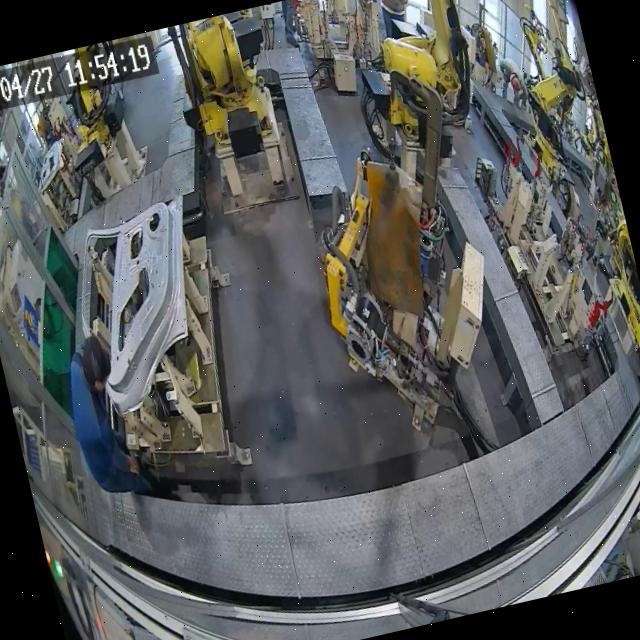Person: (54, 329, 154, 509), (495, 53, 530, 111), (372, 0, 418, 41), (276, 0, 303, 49)
